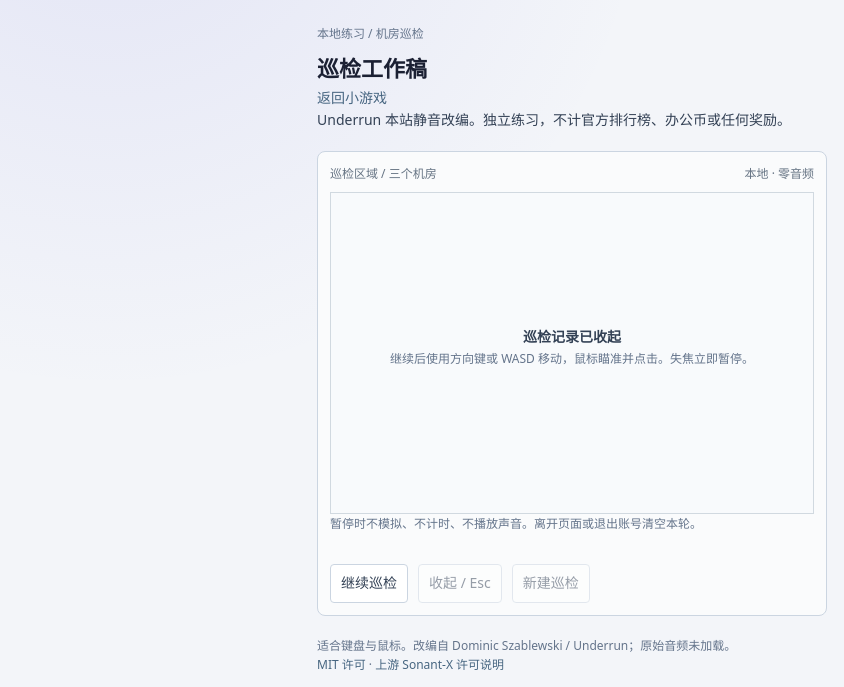
Scenario: Underrun controlled local work draft lifecycle › handles unavailable WebGL as a recoverable status rather than crashing the website
This screenshot has width=844, height=687.
Step 1. Click the button "继续巡检" → {"x": 369, "y": 584}, box [330,564,408,603]
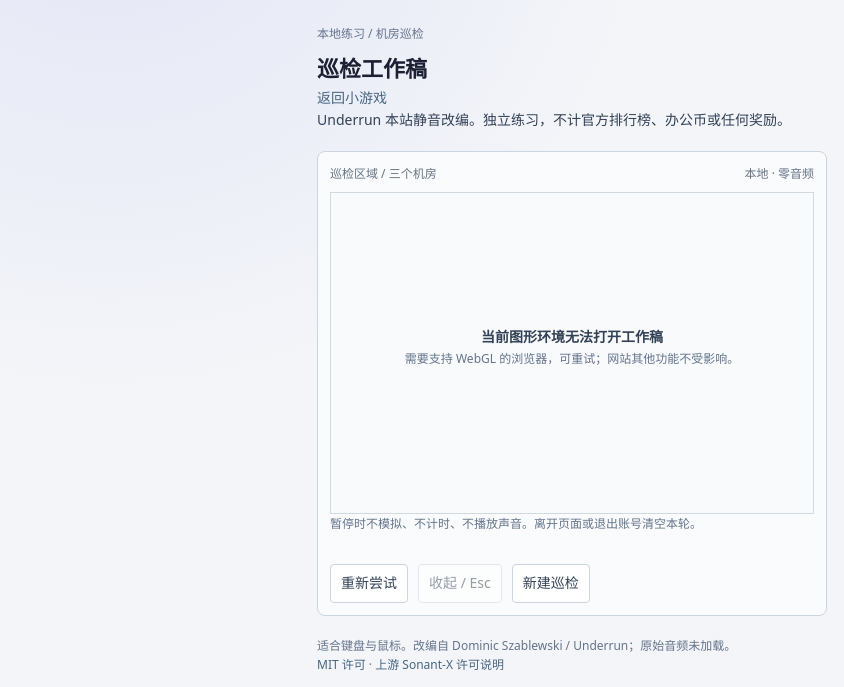
Now the button "重新尝试" is shown, box [330,564,408,603]
